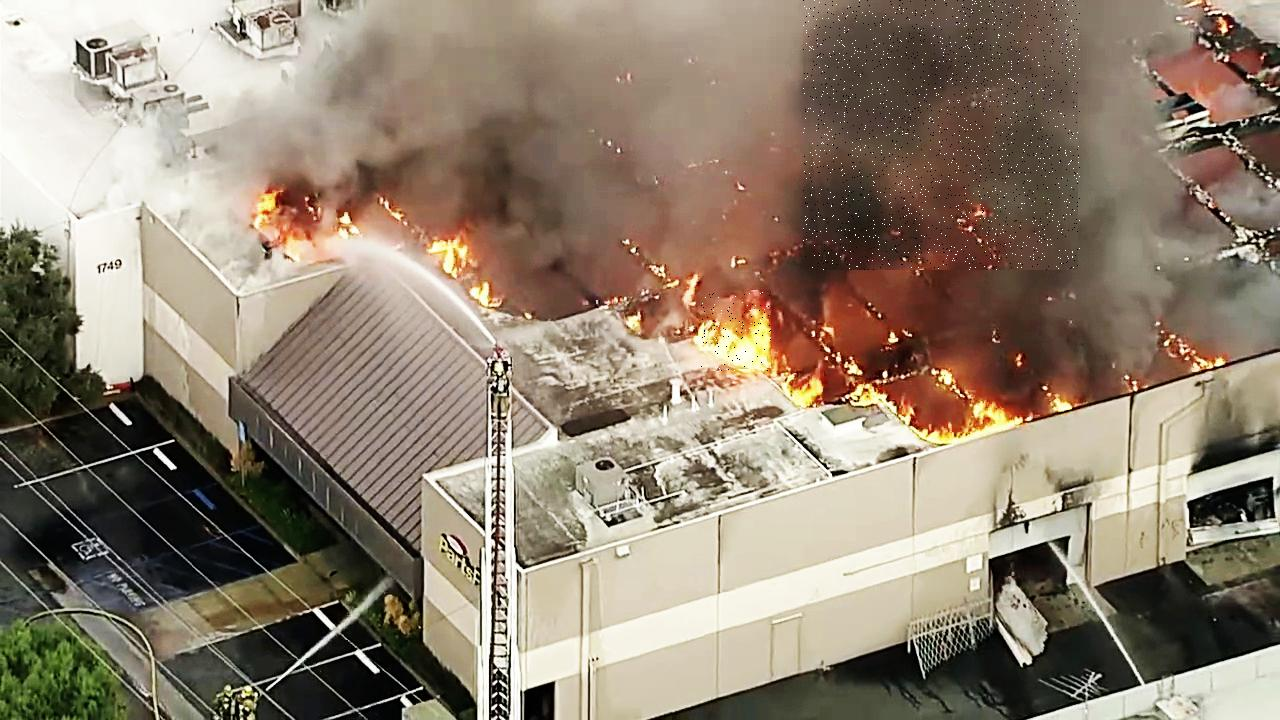fire: (700, 290, 771, 371)
smoke: (804, 0, 1081, 270)
